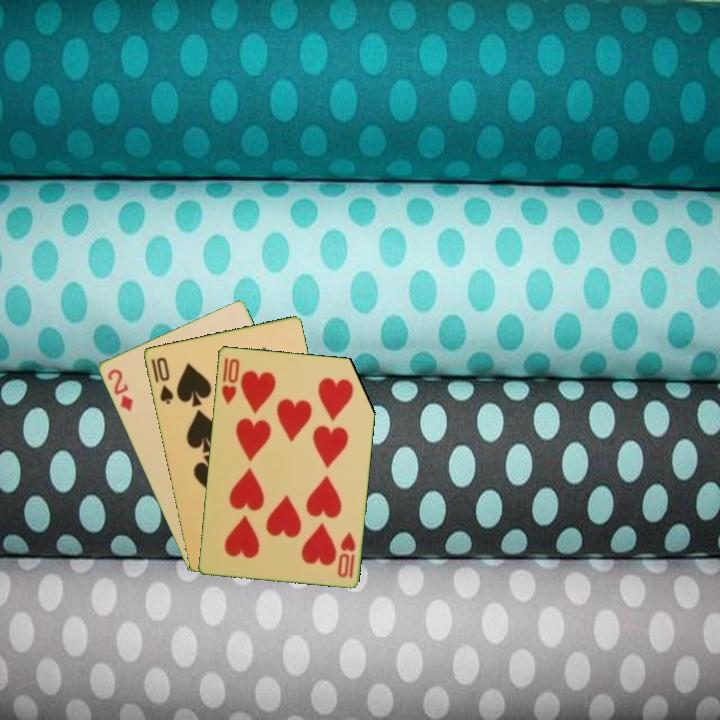10h: (218, 354, 242, 407), (334, 528, 358, 581)
10s: (147, 353, 176, 407)
2d: (103, 365, 136, 414)
